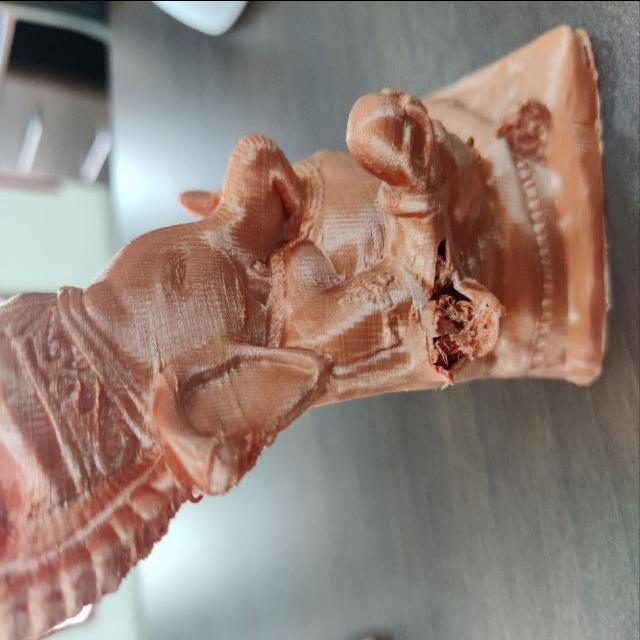cracks: (408, 238, 498, 376)
